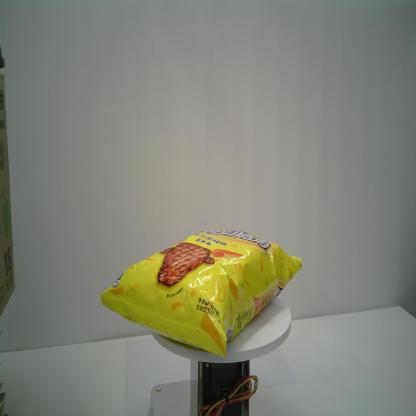Puffed Food: (97, 228, 304, 364)
